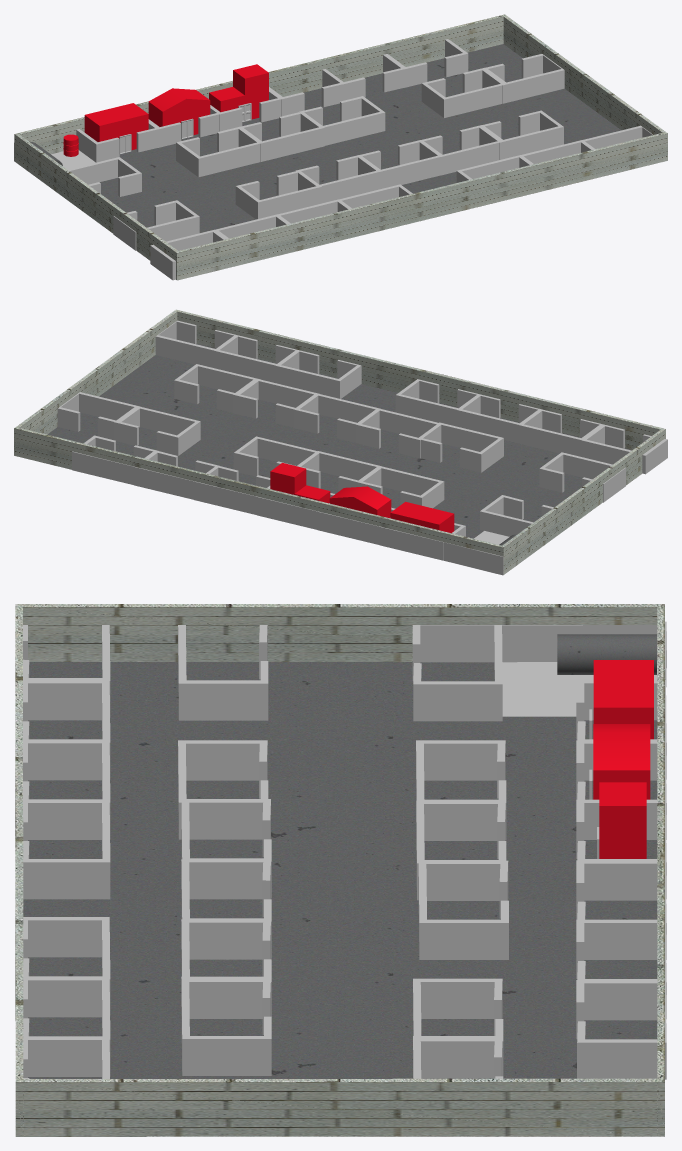
Rendered from stage2.fbx.
3 views of the same model, one above another, from view 1: azimuth 30°, elevation 25°; view 2: azimuth 150°, elevation 25°; view 3: azimuth 270°, elevation 25° (orthographic). The views are drawn at different scales.
Visible parts, largest first — view 1: Wall001, じめん003, じめん, じめん002, じめん001, 塀004, 塀023, 塀006, 塀018, 塀024, 塀005, 塀007 (+22 smaller); view 2: Wall001, じめん002, じめん001, じめん003, じめん, 塀019, 塀023, 塀006, 塀007, 塀018, 塀024, 塀016 (+22 smaller); view 3: Wall001, じめん001, じめん, じめん003, じめん002, 塀022, 塀003, 塀012, 塀006, 塀023, 塀017, 塀014 (+24 smaller).
Part boxes in pixels (<box>): Wall001: <box>14,14,667,280</box>; じめん003: <box>304,44,582,159</box>; じめん: <box>100,118,338,212</box>; じめん002: <box>381,102,621,193</box>; じめん001: <box>136,162,337,232</box>; 塀004: <box>176,126,261,177</box>; 塀023: <box>421,67,507,117</box>; 塀006: <box>235,170,321,219</box>; 塀018: <box>477,110,563,159</box>; 塀024: <box>482,54,564,103</box>; 塀005: <box>238,112,324,161</box>; 塀007: <box>295,155,380,203</box>; Wall001: <box>14,309,665,574</box>; じめん002: <box>99,343,397,455</box>; じめん001: <box>340,403,632,507</box>; じめん003: <box>47,412,339,485</box>; じめん: <box>320,472,541,538</box>; 塀019: <box>275,350,361,398</box>; 塀023: <box>114,406,200,455</box>; 塀006: <box>417,422,503,472</box>; 塀007: <box>356,408,441,458</box>; 塀018: <box>174,364,260,412</box>; 塀024: <box>57,392,139,440</box>; 塀016: <box>294,393,380,442</box>; Wall001: <box>15,604,664,1136</box>; じめん001: <box>28,662,341,897</box>; じめん: <box>339,662,657,897</box>; じめん003: <box>339,897,657,1078</box>; じめん002: <box>23,897,341,1078</box>; 塀022: <box>418,860,508,959</box>; 塀003: <box>412,625,502,721</box>; 塀012: <box>23,799,110,899</box>; 塀006: <box>178,740,268,839</box>; 塀023: <box>413,978,503,1078</box>; 塀017: <box>181,919,271,1018</box>; 塀014: <box>576,980,666,1079</box>.
Bounding box in the file's own units: 734 × 61.69 × 420.
